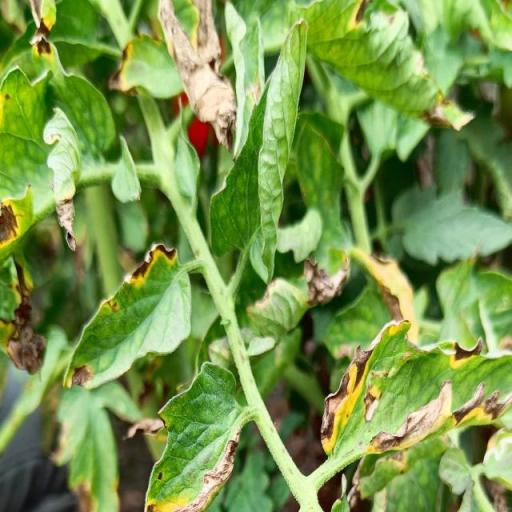disease_tomato: (316, 317, 512, 467), (59, 238, 197, 394), (140, 359, 248, 512)
